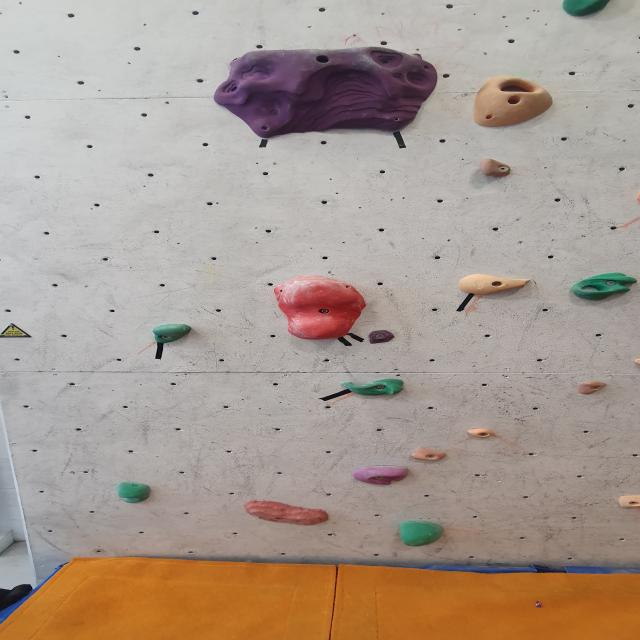Crimp: (204, 44, 440, 140), (243, 501, 334, 527), (456, 272, 536, 297), (573, 380, 607, 396)
Jug: (566, 272, 638, 302), (338, 378, 408, 398), (150, 323, 192, 345), (478, 159, 516, 180)
Pinch: (408, 446, 451, 464), (464, 426, 496, 439), (614, 493, 640, 509)
Pocket: (472, 73, 557, 128)
Sloper: (272, 273, 374, 342), (397, 519, 446, 549), (349, 464, 415, 486), (558, 0, 621, 20), (115, 481, 155, 504)
